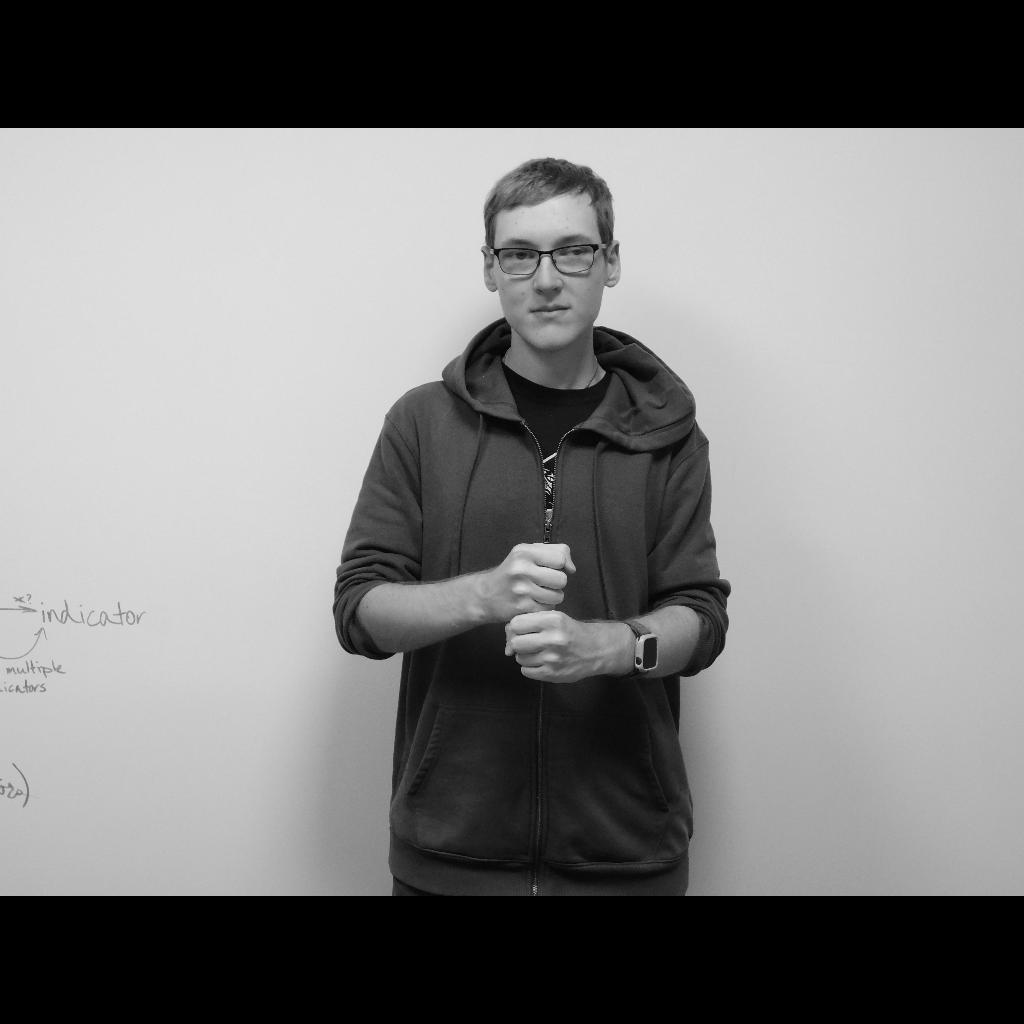get: (496, 542, 582, 684)
